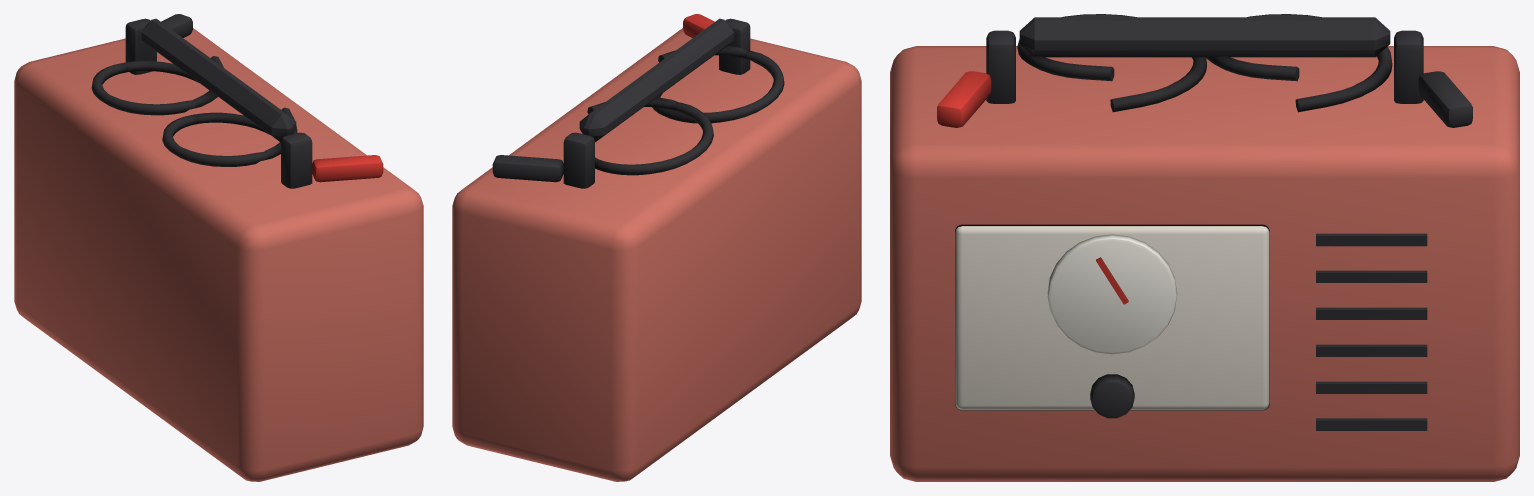
File: nd_charger.glb
3 renders of one model, left to right at view 1: azimuth 30°, elevation 25°; view 2: azimuth 150°, elevation 25°; view 3: azimuth 270°, elevation 25°, orthographic. The views are drawn at different scales.
Parts seen in each view (by area): view 1: PART; view 2: PART; view 3: PART.
Part boxes in pixels (box(x1,y1,x2,y2)): PART: box(14, 14, 423, 481); PART: box(452, 14, 861, 481); PART: box(890, 14, 1519, 481).
Size of the model in its own units: 0.164 by 0.246 by 0.34.
